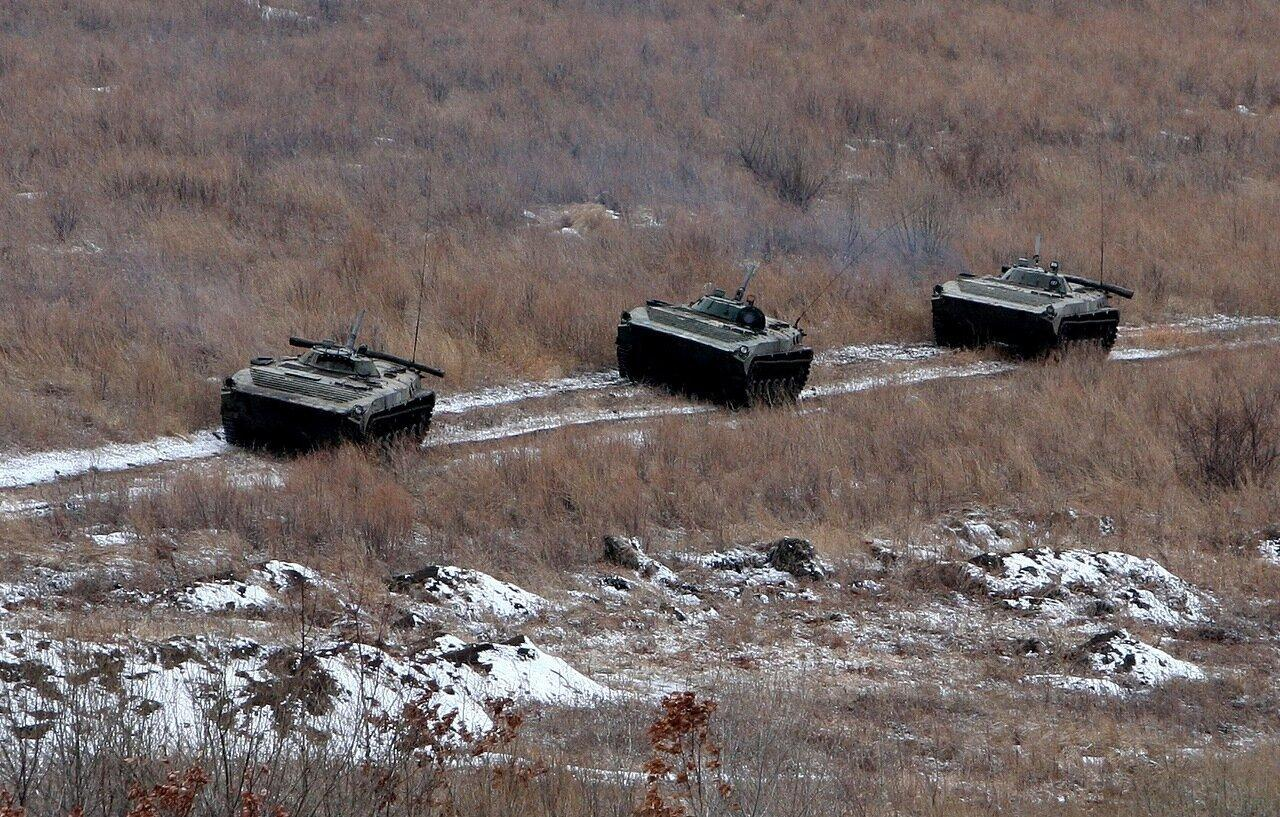tank: (218, 306, 447, 463), (615, 262, 815, 413), (928, 231, 1137, 367)
